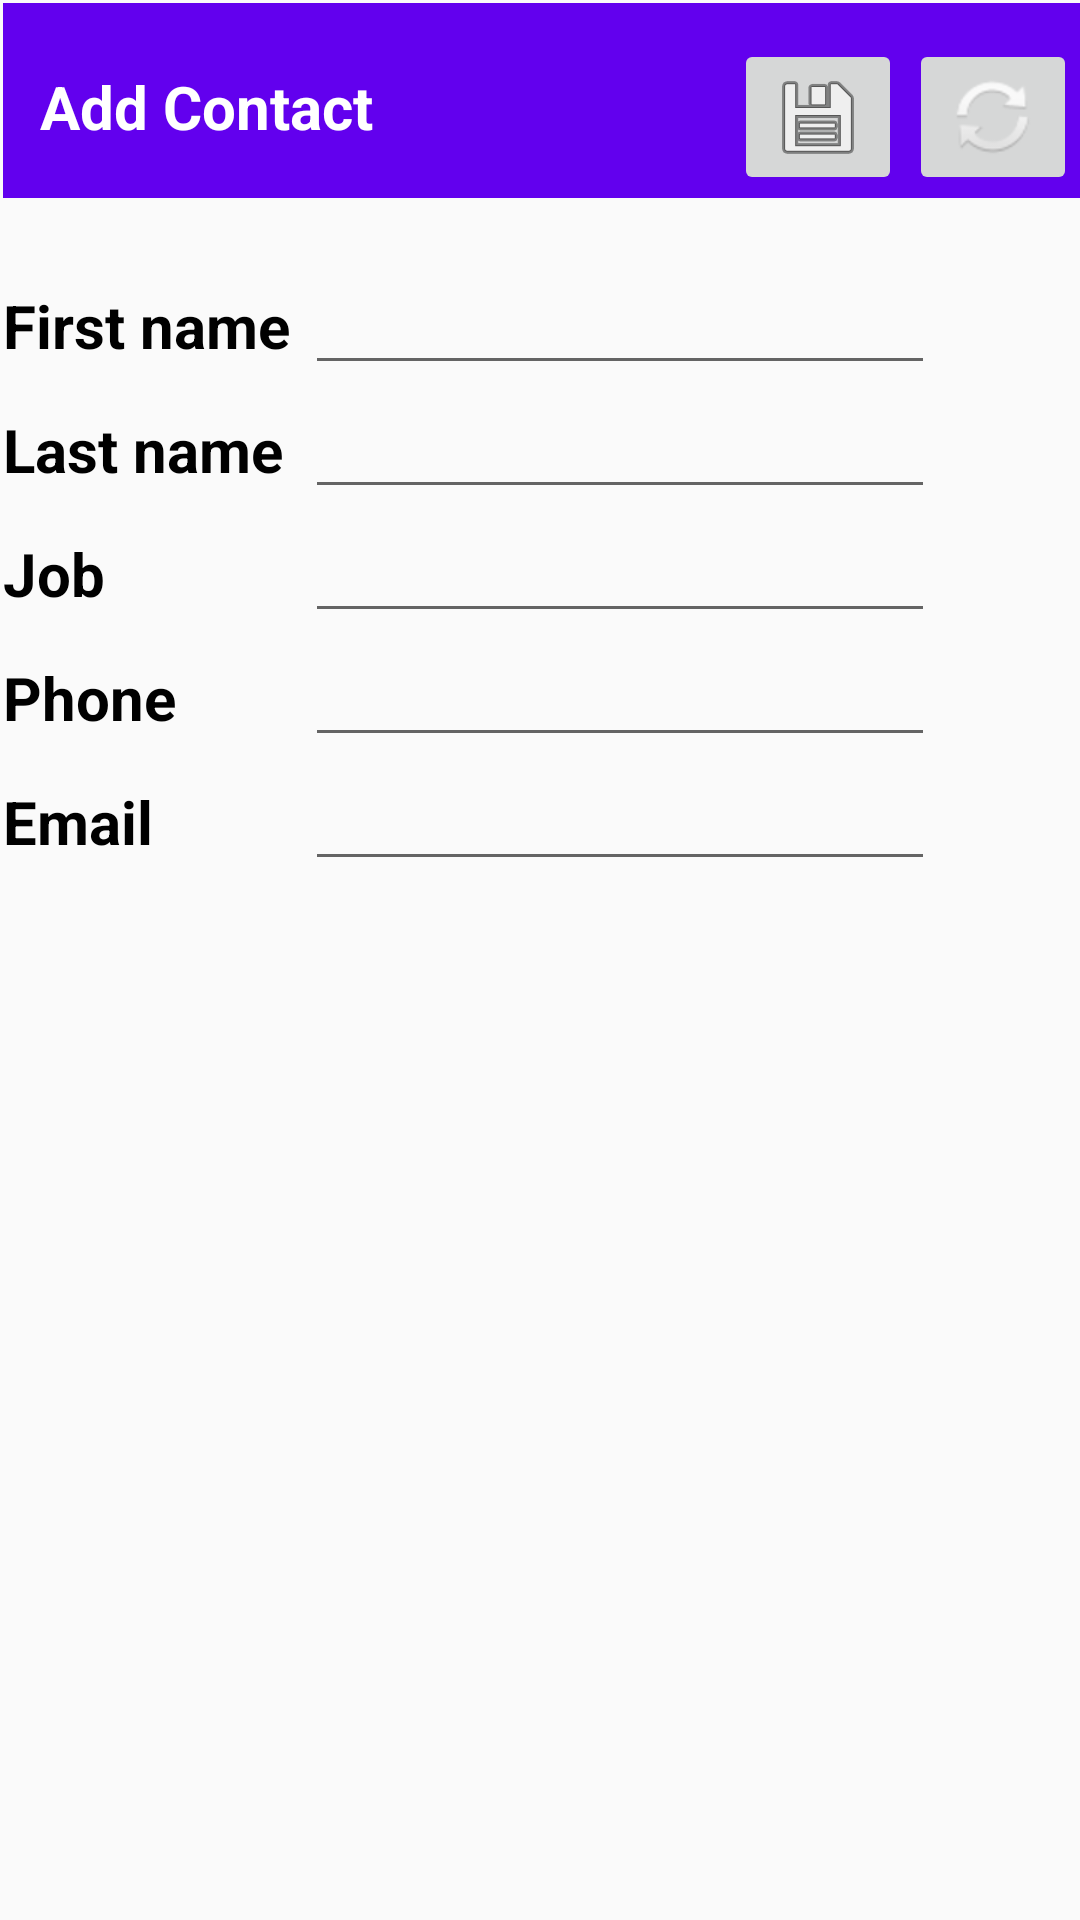

Icon bounding boxes for this 1080w x 1920h phone screenshot, format bbox(x1, y1, x2, y2):
popup sync: bbox(921, 57, 1065, 177)
save: bbox(746, 57, 890, 177)
